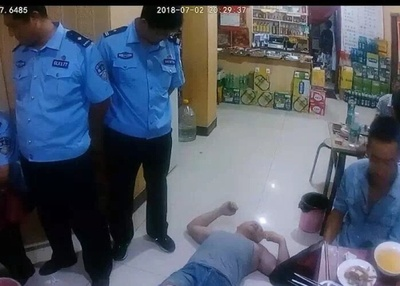falling: (62, 185, 294, 286)
